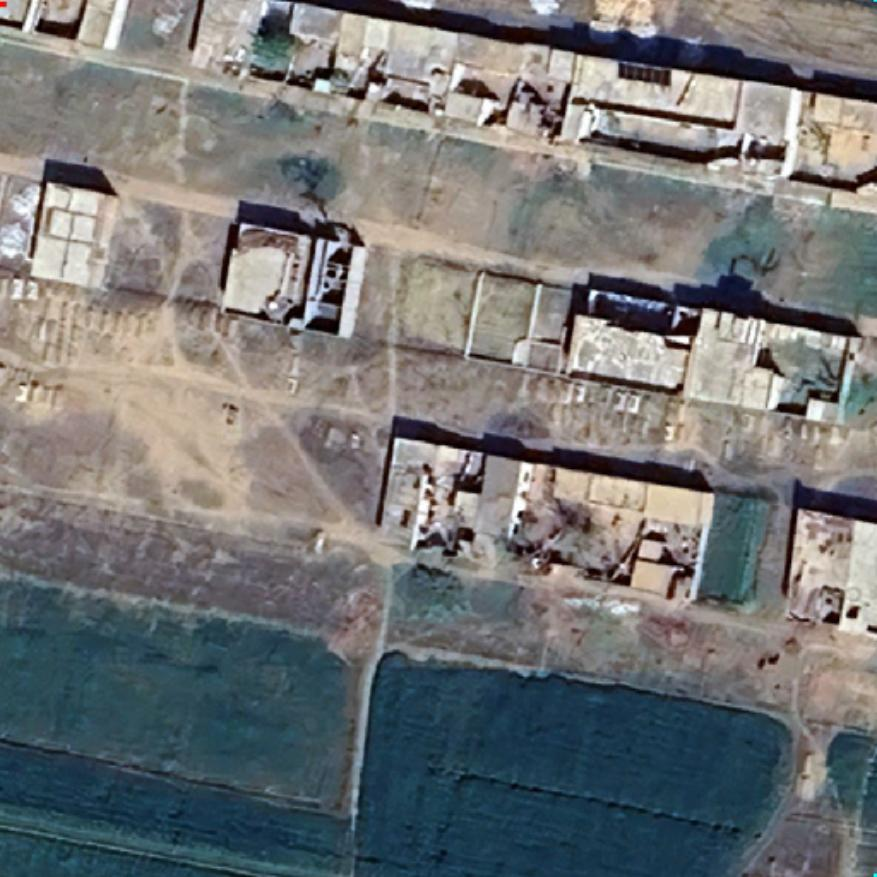Solarpanel: (613, 58, 675, 89)
